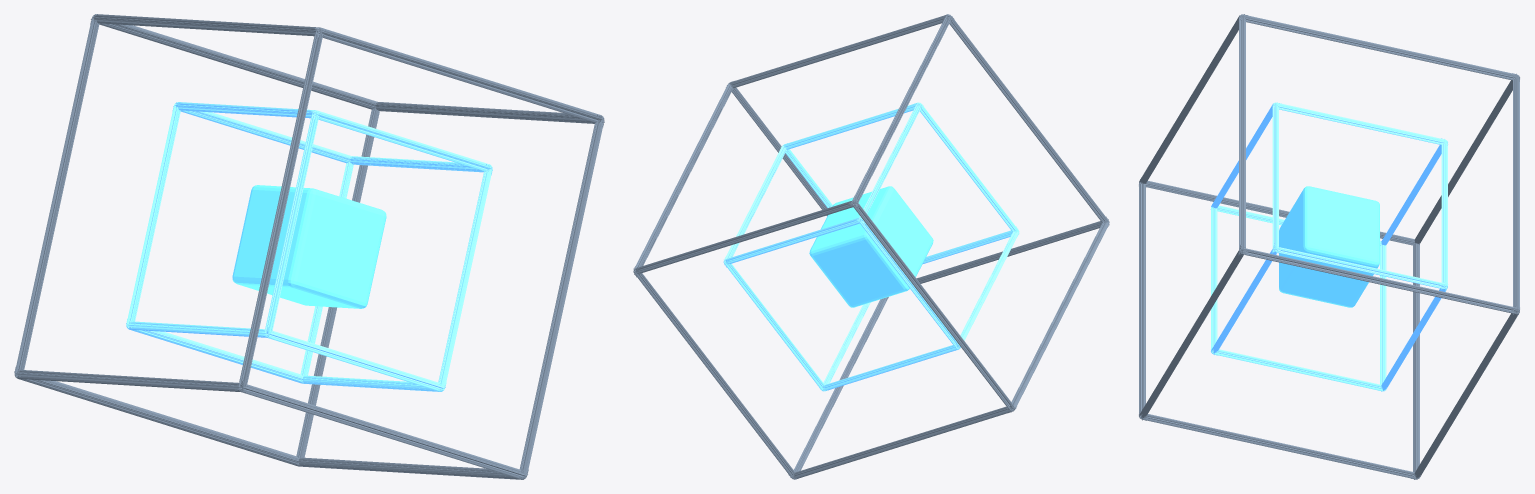
File: eat-cube.glb
The picture shows the model from 3 angles, left to right: view 1: azimuth 30°, elevation 25°; view 2: azimuth 150°, elevation 25°; view 3: azimuth 270°, elevation 25°; orthographic projection. The views are drawn at different scales.
Visible parts, largest first — view 1: CubeOuter, CubeMiddle, CubeCore; view 2: CubeOuter, CubeMiddle, CubeCore; view 3: CubeOuter, CubeMiddle, CubeCore.
Boxes of the visible parts, x1,y1,x2,y2 form: CubeOuter: [14, 14, 604, 479]; CubeMiddle: [126, 102, 492, 391]; CubeCore: [232, 185, 386, 308]; CubeOuter: [633, 14, 1109, 479]; CubeMiddle: [723, 102, 1019, 391]; CubeCore: [809, 186, 933, 307]; CubeOuter: [1139, 14, 1519, 479]; CubeMiddle: [1210, 102, 1448, 391]; CubeCore: [1279, 186, 1379, 307].
Size of the model in its own units: 3.47 by 3.73 by 3.01.
